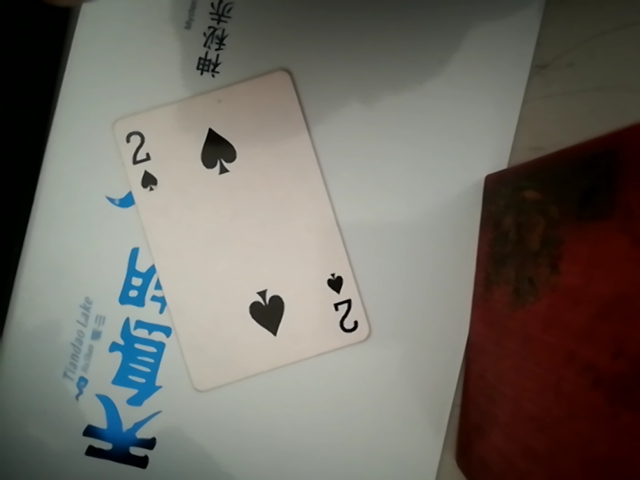ht 2: (125, 62, 365, 391)
